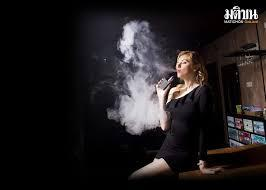smoker: (117, 24, 207, 110)
